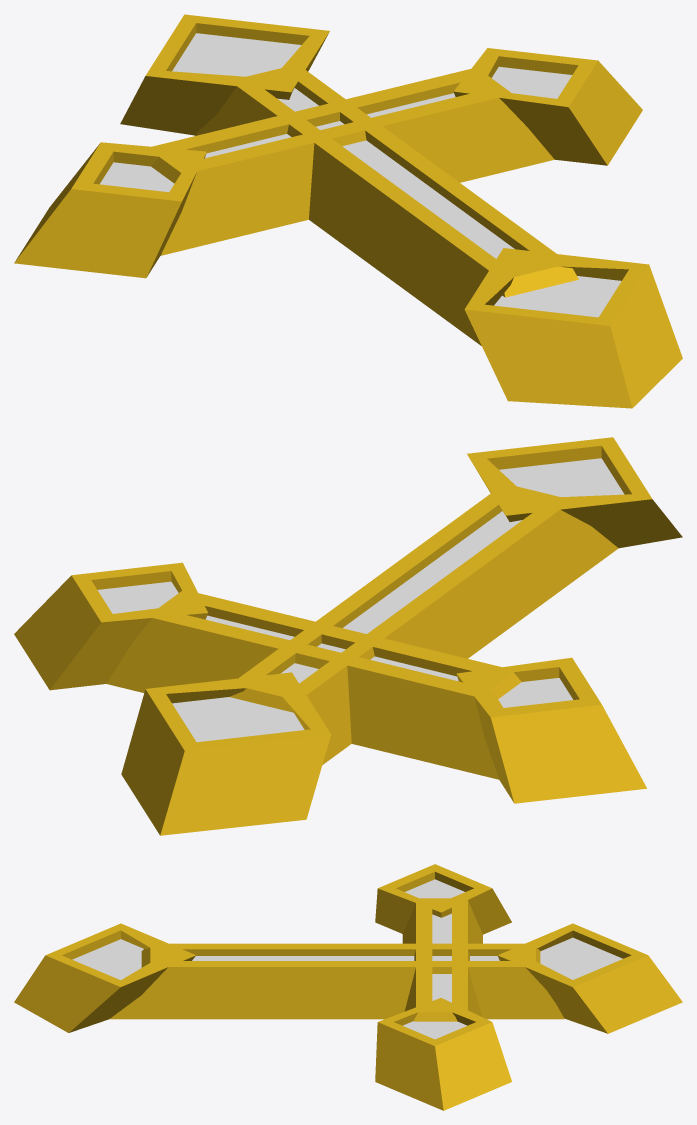
Rendered from cross.fbx.
3 renders of one model, top to bottom at view 1: azimuth 30°, elevation 25°; view 2: azimuth 150°, elevation 25°; view 3: azimuth 270°, elevation 25°, orthographic. The views are drawn at different scales.
Visible parts, largest first — view 1: Cube.002; view 2: Cube.002; view 3: Cube.002.
Boxes of the visible parts, left/top/right/bottom form: Cube.002: left=14, top=14, right=682, bottom=408; Cube.002: left=14, top=437, right=682, bottom=835; Cube.002: left=14, top=864, right=682, bottom=1110.
Size of the model in its own units: 444 by 44.74 by 577.
